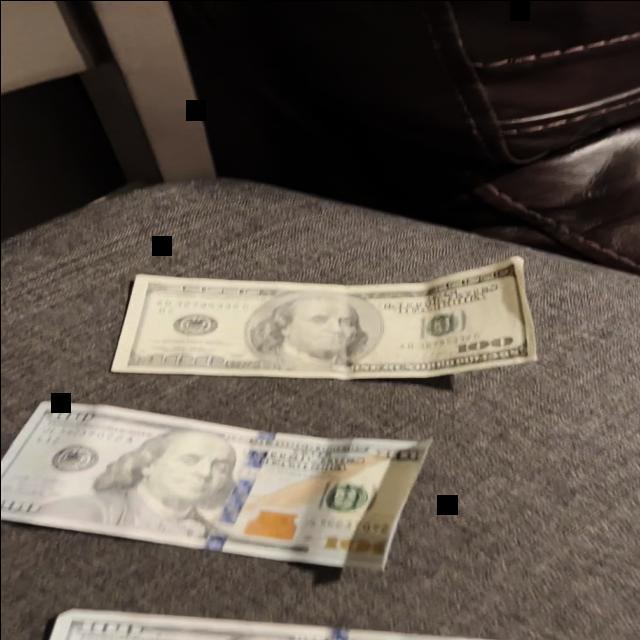hundred: (0, 399, 437, 572), (107, 255, 541, 378), (25, 604, 590, 640)
